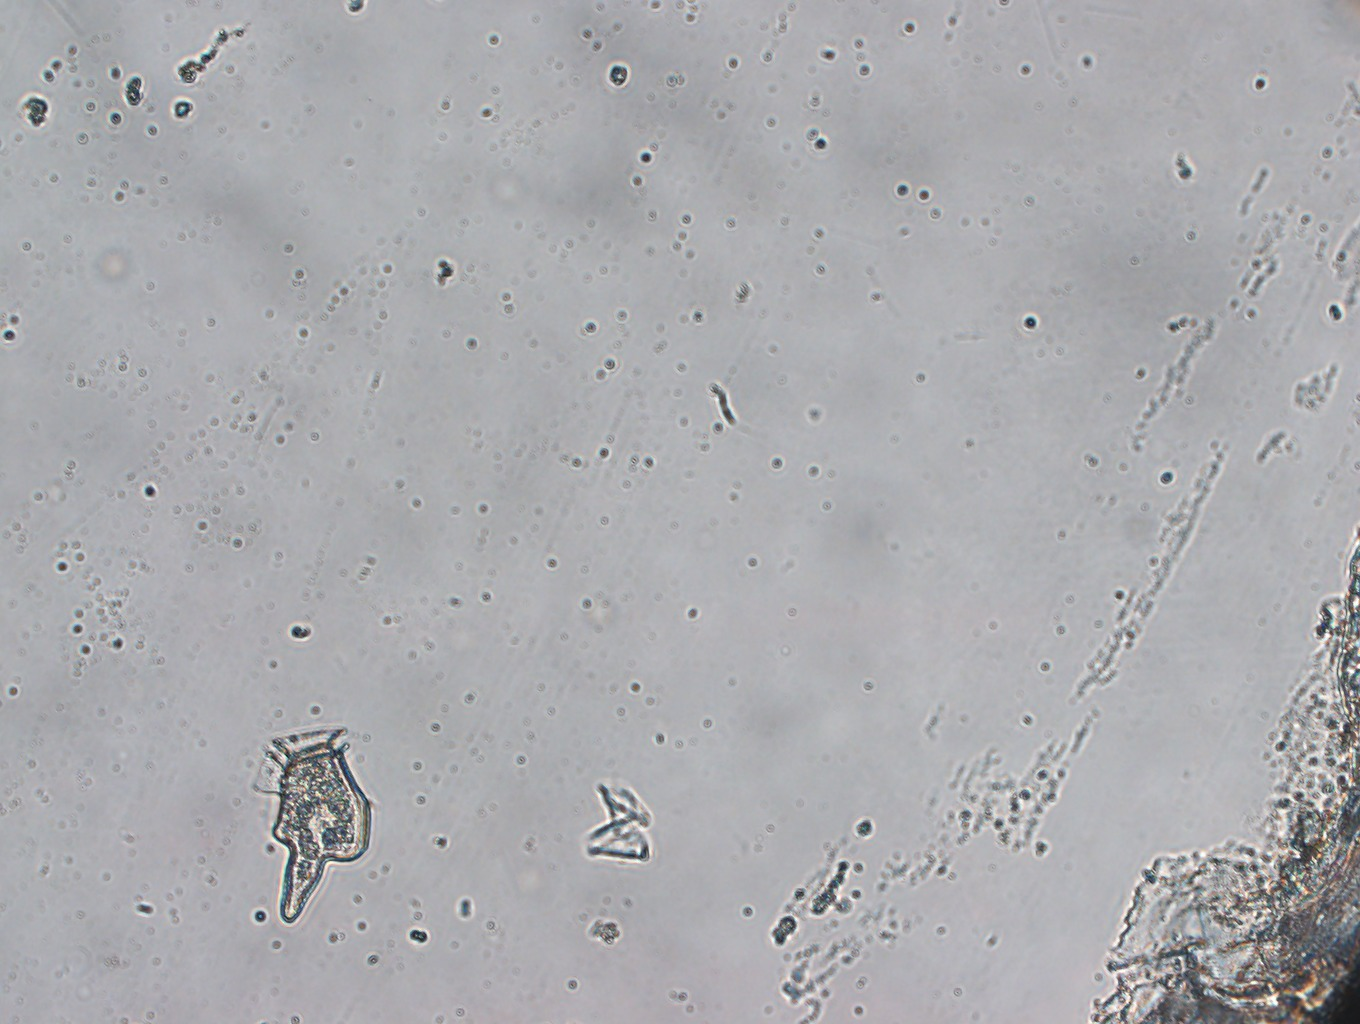dinophysis caudata: (250, 726, 374, 926)
